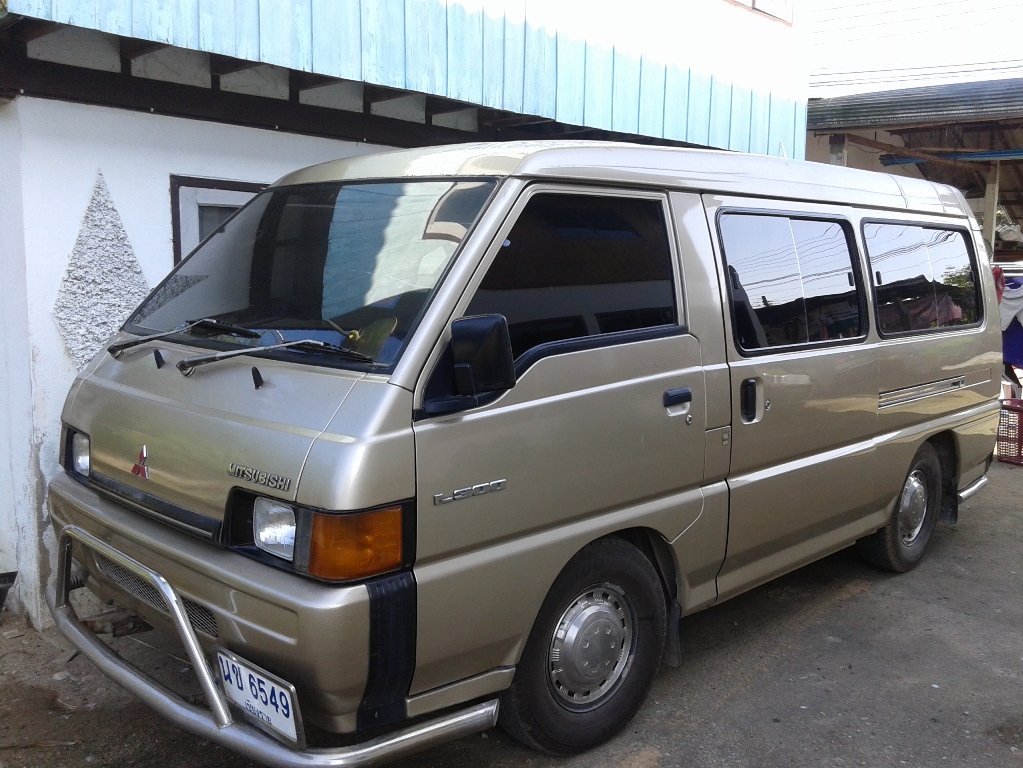van: (49, 141, 1000, 746)
